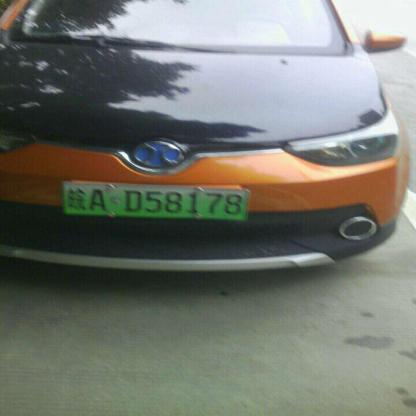lp: (65, 182, 245, 219)
